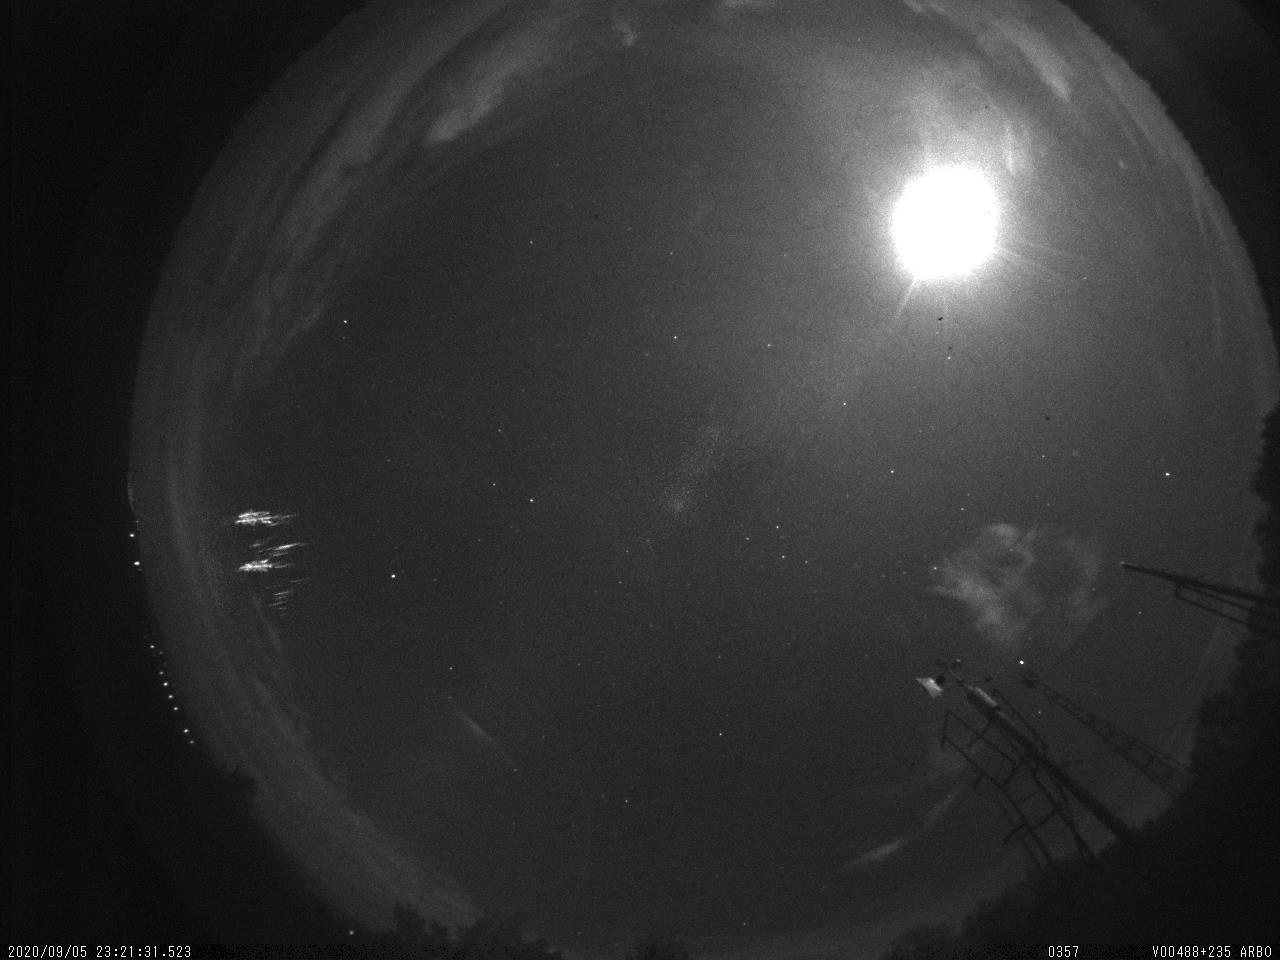TLE: (208, 499, 337, 633)
